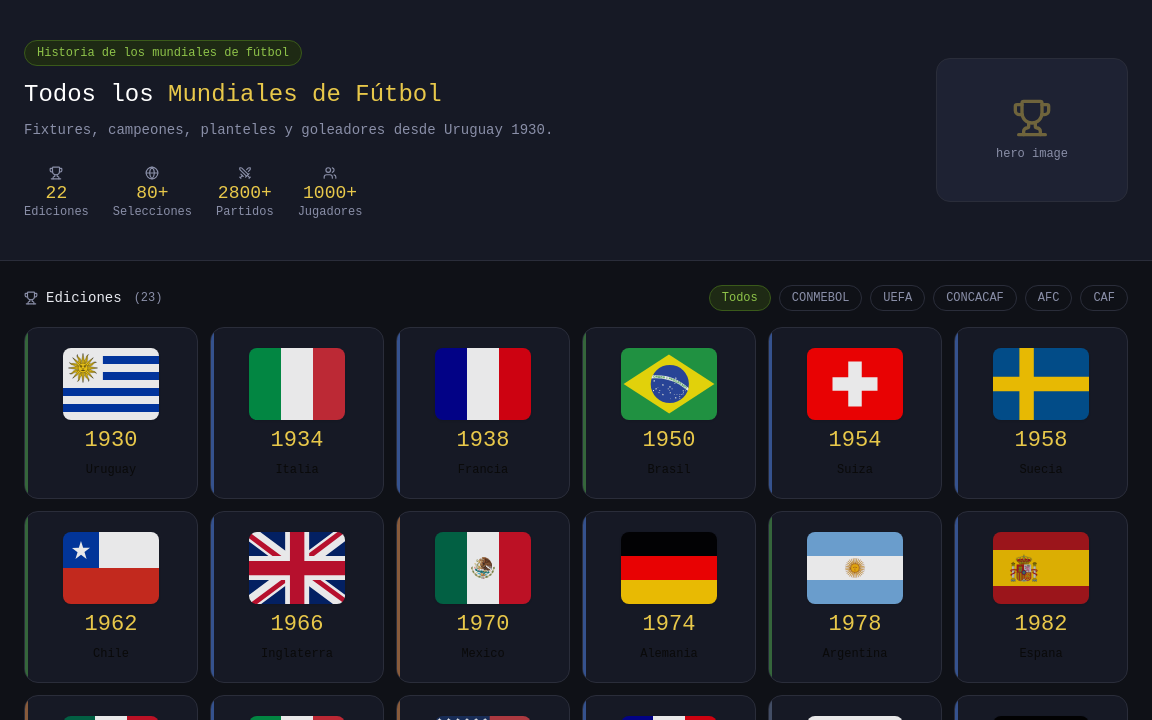
Test: ChampionshipsPage › filtra las ediciones por confederacion organizadora
Click the button "UEFA" at (898, 298), box [870,285,925,311]
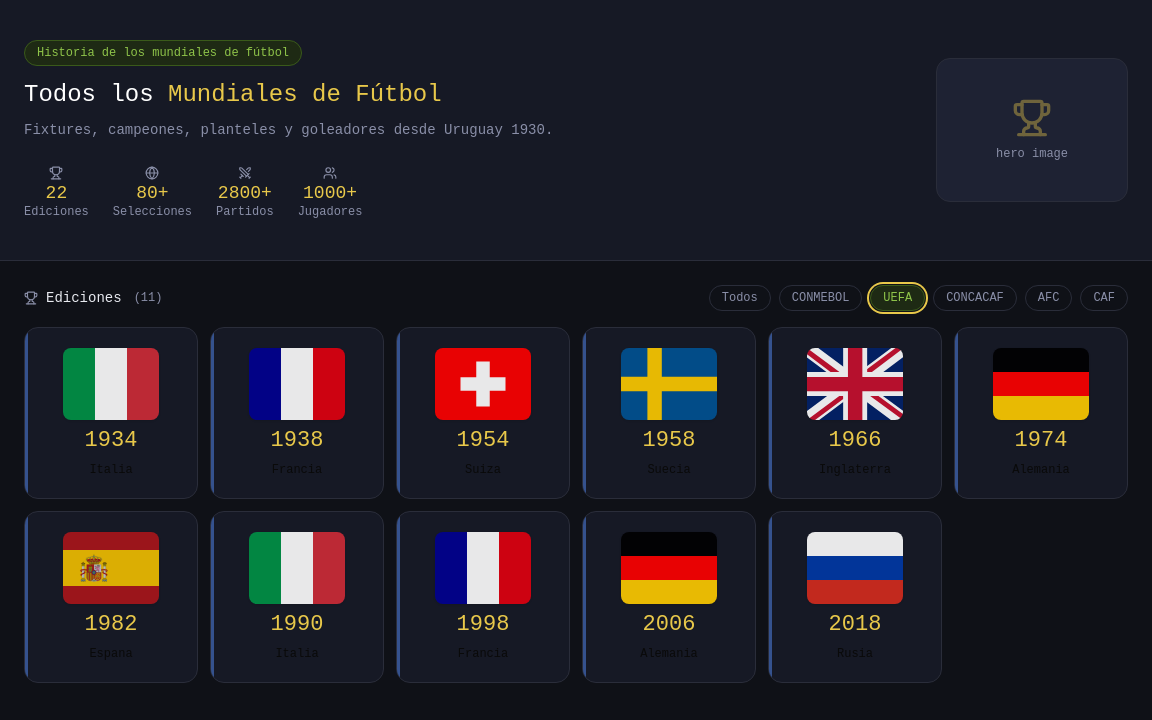
expect the link "1966 Inglaterra" is shown: met, box [768,327,942,499]
expect the heading "Ediciones (11)" is shown: met, box [24,288,162,308]
